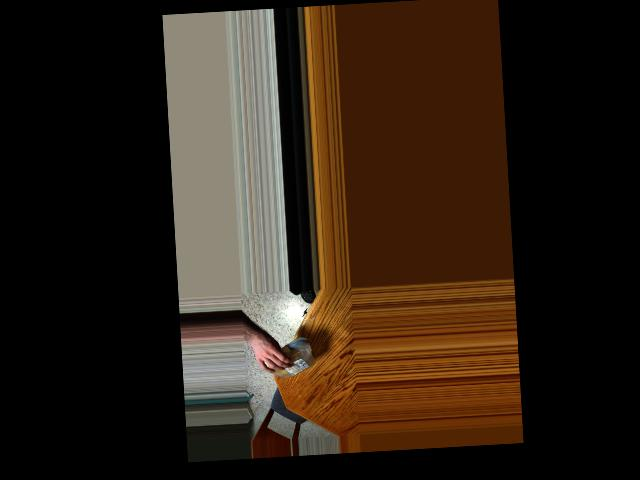cheese: (270, 341, 312, 373)
